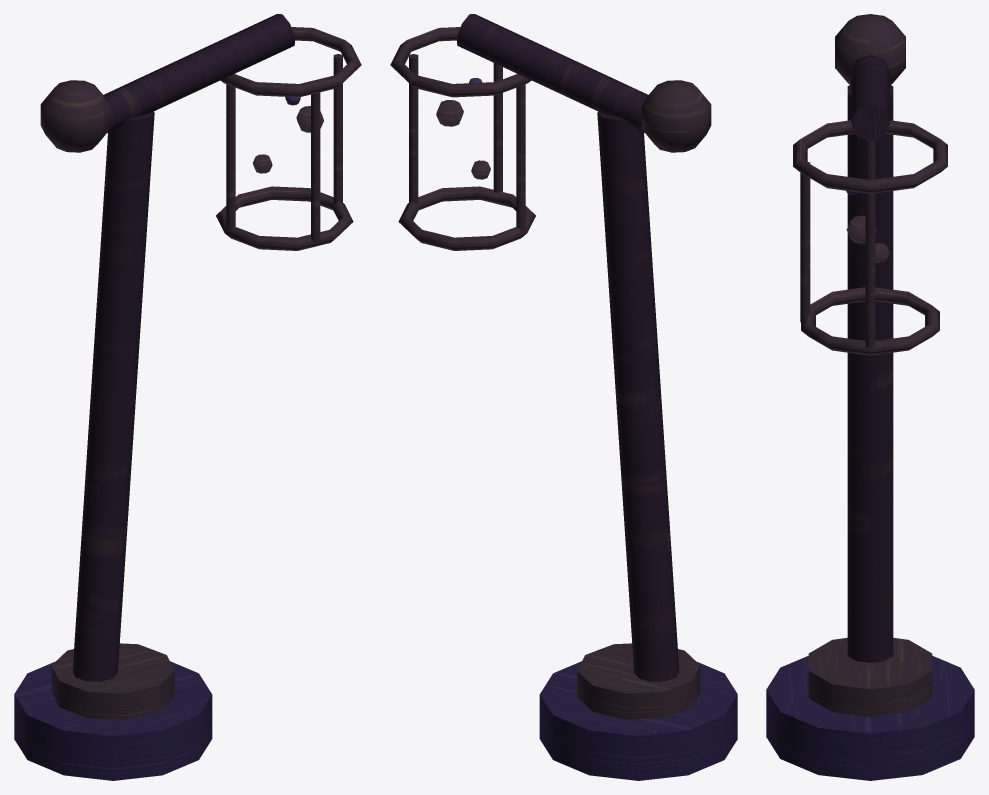
File: lampadaire-lucioles.glb
3 renders of one model, left to right at view 1: azimuth 30°, elevation 25°; view 2: azimuth 150°, elevation 25°; view 3: azimuth 270°, elevation 25°, orthographic. The views are drawn at different scales.
Parts seen in each view (by area): view 1: Mat, Pied, Bras, SocleOr, ChapeauMat, CageBas, CageHaut, Barreau3, Barreau2, Barreau1; view 2: Mat, Pied, Bras, SocleOr, ChapeauMat, CageBas, CageHaut, Barreau2, Barreau1, Barreau3, Luciole1; view 3: Mat, Pied, SocleOr, CageHaut, CageBas, ChapeauMat, Bras, Barreau1, Barreau3, Luciole1, Barreau2.
Boxes of the visible parts, left/top/right/bottom form: Mat: left=72, top=111, right=154, bottom=681; Pied: left=14, top=661, right=212, bottom=780; Bras: left=103, top=14, right=294, bottom=132; SocleOr: left=51, top=643, right=174, bottom=719; ChapeauMat: left=40, top=80, right=110, bottom=152; CageBas: left=216, top=186, right=353, bottom=250; CageHaut: left=220, top=27, right=361, bottom=97; Barreau3: left=311, top=92, right=320, bottom=243; Barreau2: left=226, top=84, right=235, bottom=230; Barreau1: left=333, top=54, right=342, bottom=204; Mat: left=597, top=111, right=679, bottom=681; Pied: left=539, top=661, right=737, bottom=780; Bras: left=457, top=14, right=648, bottom=132; SocleOr: left=577, top=643, right=700, bottom=719; ChapeauMat: left=641, top=80, right=711, bottom=152; CageBas: left=398, top=186, right=535, bottom=250; CageHaut: left=390, top=27, right=531, bottom=97; Barreau2: left=516, top=84, right=525, bottom=230; Barreau1: left=409, top=54, right=418, bottom=204; Barreau3: left=493, top=63, right=502, bottom=192; Luciole1: left=436, top=100, right=463, bottom=126; Mat: left=847, top=84, right=893, bottom=662; Pied: left=766, top=656, right=974, bottom=780; SocleOr: left=808, top=637, right=932, bottom=717; CageHaut: left=793, top=120, right=947, bottom=193; CageBas: left=801, top=287, right=939, bottom=355; ChapeauMat: left=835, top=14, right=905, bottom=84; Bras: left=851, top=54, right=889, bottom=141; Barreau1: left=865, top=193, right=875, bottom=348; Barreau3: left=800, top=162, right=810, bottom=322; Luciole1: left=846, top=215, right=876, bottom=243; Barreau2: left=865, top=140, right=875, bottom=179.
Size of the model in its own units: 0.908 by 1.83 by 0.48.
Materials: 5 (5 with a texture image).
